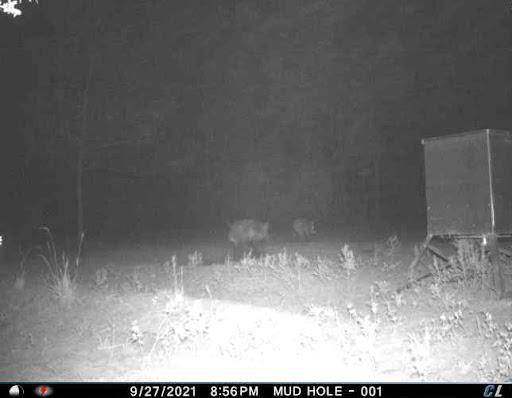Hog: (220, 214, 278, 266), (288, 214, 322, 244)
